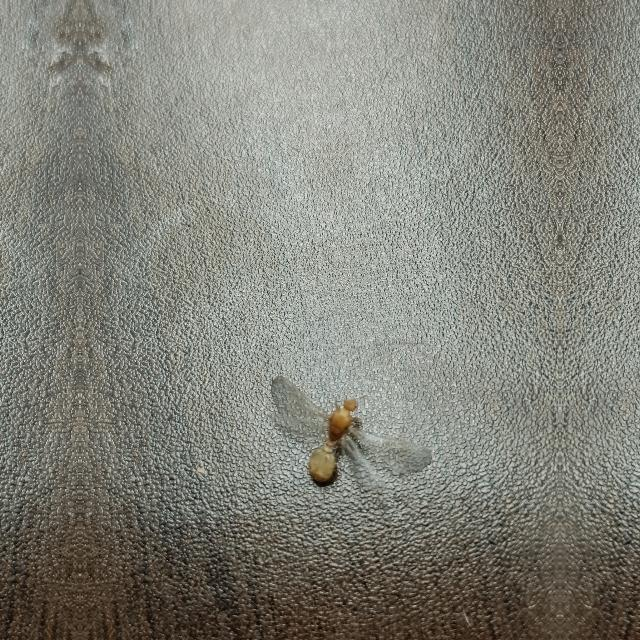Temnothorax: (285, 382, 375, 502)
